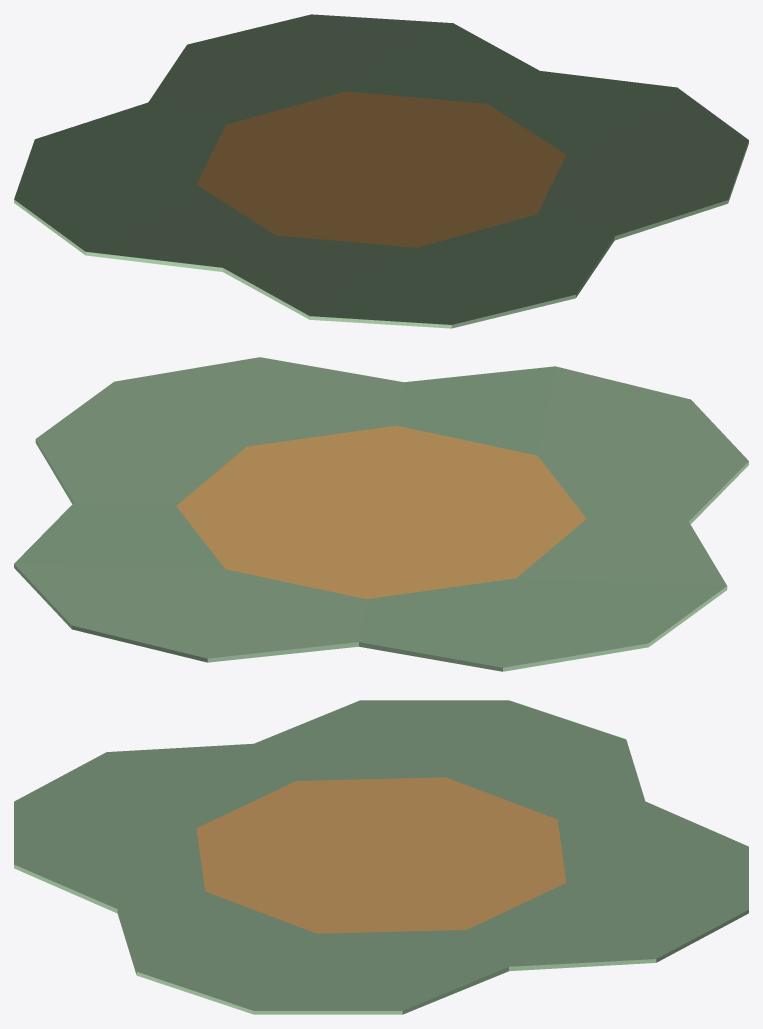
The model's file is Rug 1.fbx.
3 views of the same model, one above another, from view 1: azimuth 30°, elevation 25°; view 2: azimuth 150°, elevation 25°; view 3: azimuth 270°, elevation 25° (orthographic). The views are drawn at different scales.
Parts seen in each view (by area): view 1: Node 0; view 2: Node 0; view 3: Node 0.
Boxes of the visible parts, bbox=[...] form: Node 0: bbox=[14, 14, 748, 328]; Node 0: bbox=[14, 357, 748, 671]; Node 0: bbox=[14, 700, 748, 1014].
Size of the model in its own units: 1.82 by 0.0121 by 1.82.
